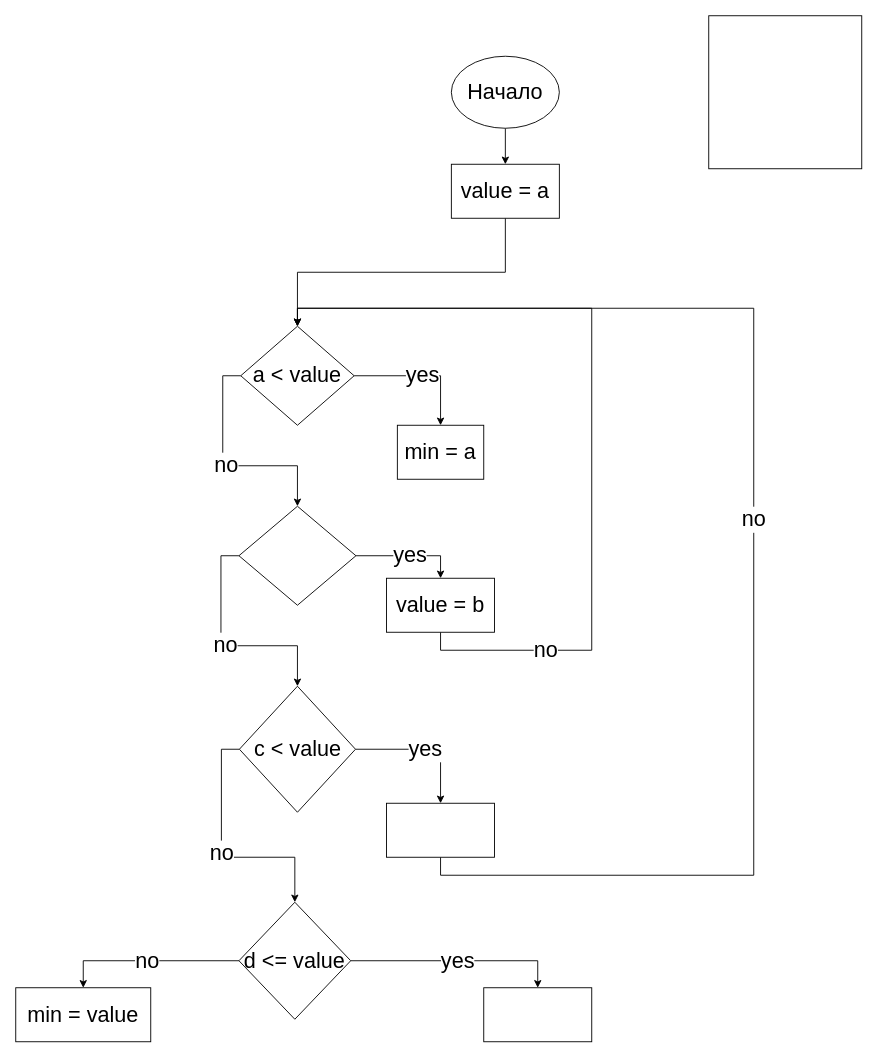
Some shapes in this 878 by 1058 pixel diagram are drawn without their labels. Each missing label, with the centre of its shape:
"a = 2 b = 3 c = 12 d = 7" goes at point (785, 92).
"b < value" goes at point (297, 555).
"min = d" goes at point (537, 1014).
"value = c" goes at point (440, 829).
